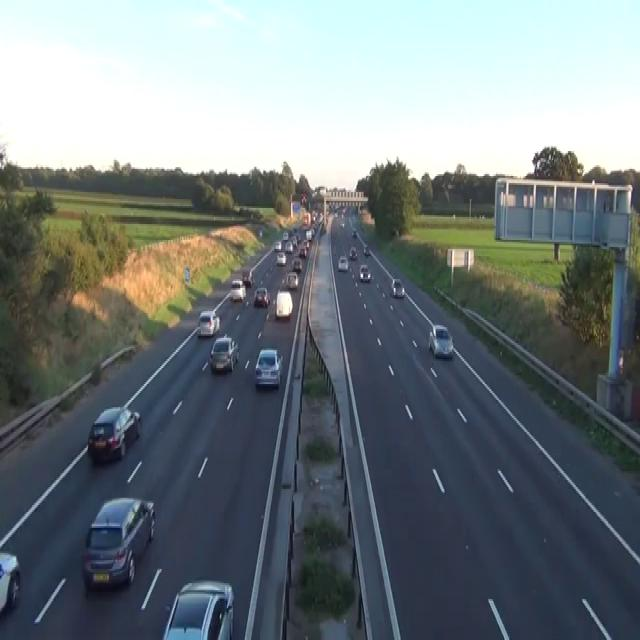Car: (80, 496, 155, 590), (162, 580, 234, 638), (87, 406, 141, 462), (0, 549, 20, 615), (208, 334, 239, 372), (254, 348, 283, 388), (428, 323, 453, 358), (196, 309, 220, 336), (274, 290, 293, 320), (253, 286, 270, 308), (230, 278, 246, 300), (281, 270, 298, 288), (390, 277, 404, 297), (359, 263, 371, 283), (337, 254, 348, 270), (242, 270, 253, 286), (276, 251, 286, 265), (292, 258, 302, 270), (349, 246, 357, 260), (280, 274, 288, 288), (284, 240, 293, 252), (298, 245, 306, 258), (305, 229, 312, 242), (363, 244, 370, 256), (274, 240, 281, 251), (300, 192, 306, 204), (320, 224, 326, 235), (303, 238, 309, 249), (294, 233, 300, 243), (291, 235, 297, 245), (282, 231, 288, 240), (311, 226, 316, 236), (351, 228, 356, 236), (340, 220, 345, 228), (259, 228, 262, 236), (334, 211, 337, 217)
